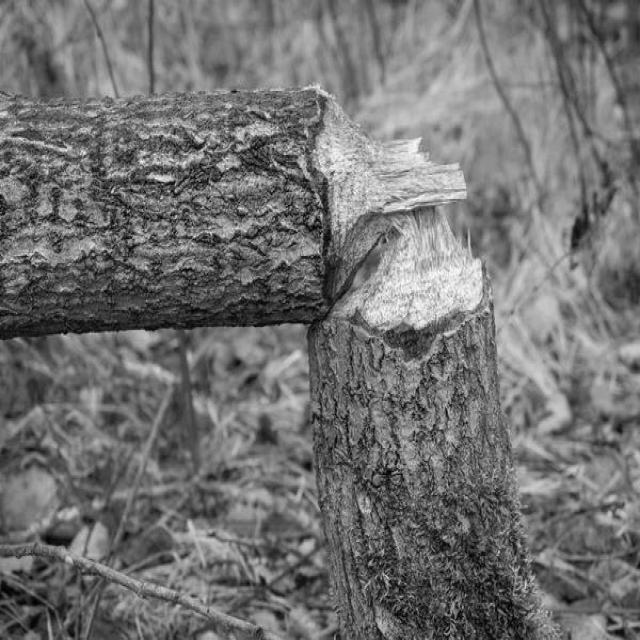Tree: (0, 86, 550, 638)
